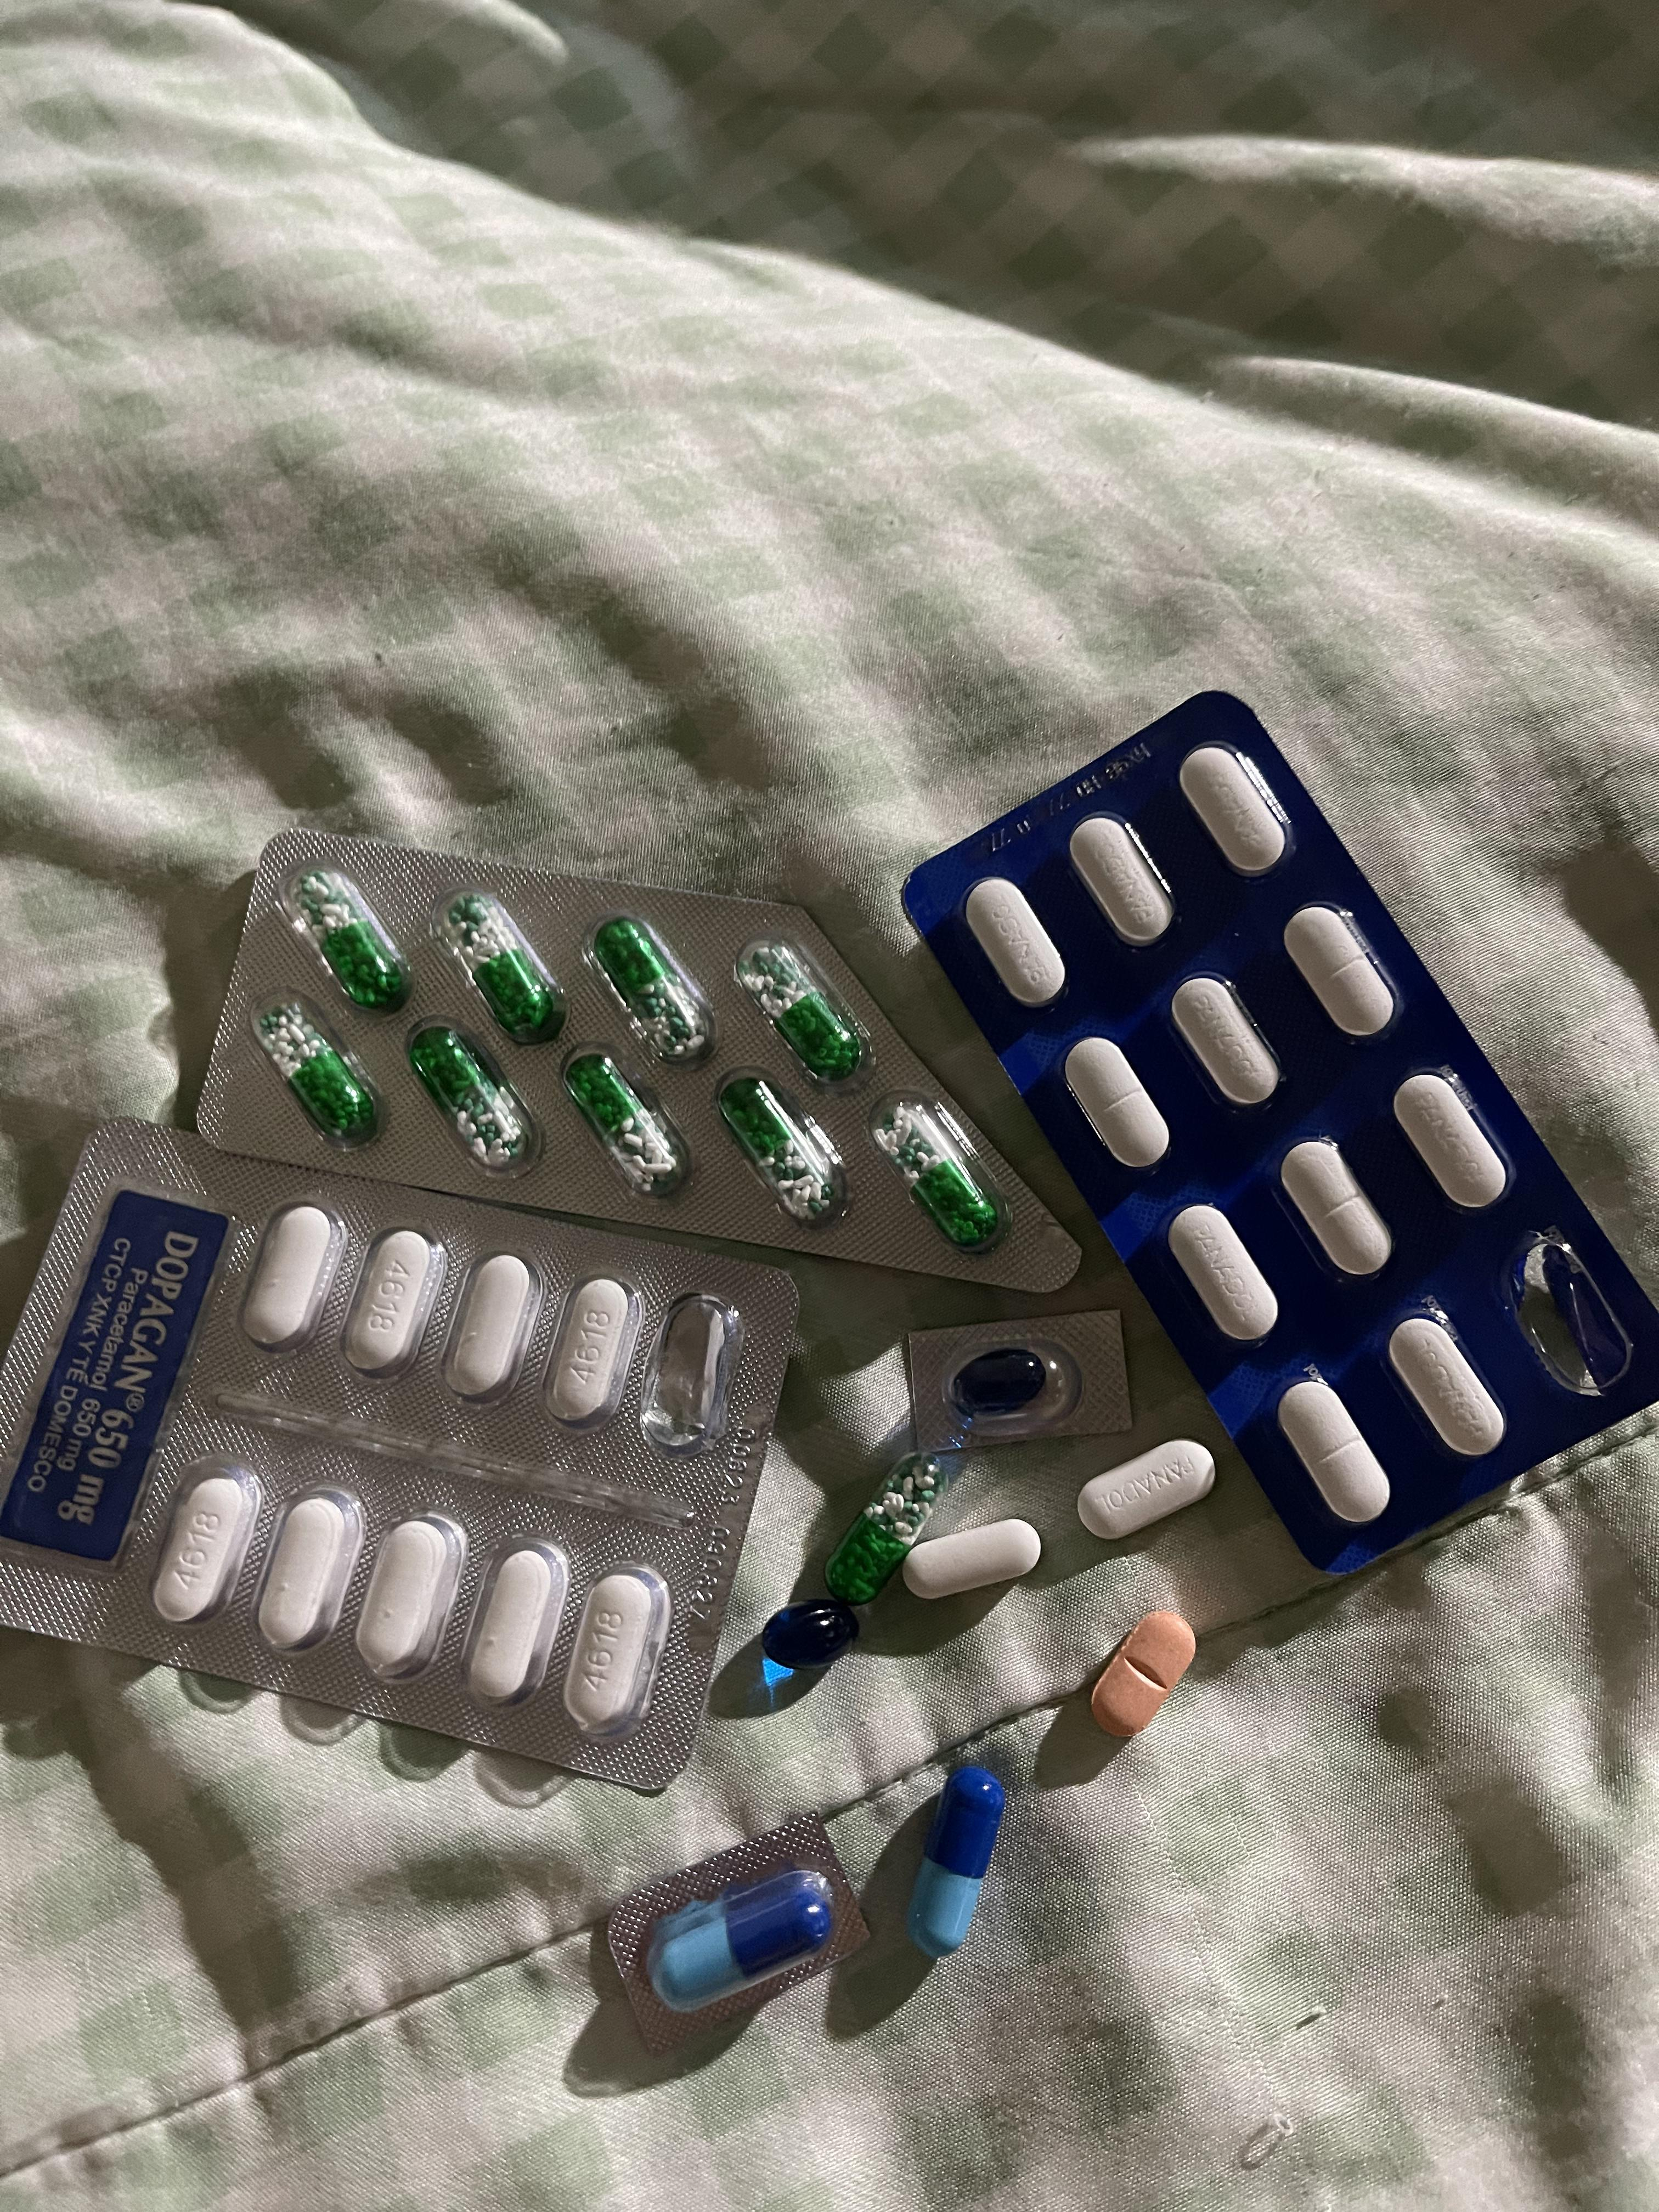Lincomyxin_500mg: (760, 1597, 856, 1669), (951, 1346, 1049, 1414)
Loratadine_10mg: (1094, 1608, 1190, 1738)
Paracetamol_350mg: (1385, 1313, 1504, 1458), (1277, 1378, 1391, 1524), (1394, 1068, 1509, 1209), (1279, 1137, 1394, 1277), (1284, 902, 1398, 1038), (1171, 975, 1281, 1109), (1180, 744, 1288, 880), (1168, 1205, 1274, 1343), (1068, 817, 1169, 949), (1065, 1035, 1162, 1169), (964, 880, 1061, 1008), (1082, 1442, 1211, 1538)
Paracetamol_500mg: (565, 1564, 673, 1745), (462, 1533, 572, 1705), (356, 1514, 465, 1684), (254, 1486, 361, 1655), (152, 1465, 260, 1623), (342, 1226, 444, 1376), (240, 1205, 342, 1353), (443, 1251, 538, 1402), (547, 1277, 641, 1426), (899, 1517, 1040, 1599)
Paracetamol_650mg: (824, 1451, 945, 1606), (566, 1055, 688, 1204), (718, 1071, 836, 1223), (596, 918, 711, 1066), (739, 937, 857, 1080), (258, 1001, 376, 1143), (408, 1021, 523, 1163), (443, 894, 556, 1035), (878, 1101, 990, 1238), (296, 871, 406, 1010)
pill: (650, 1869, 835, 2008), (906, 1764, 1006, 1961)
